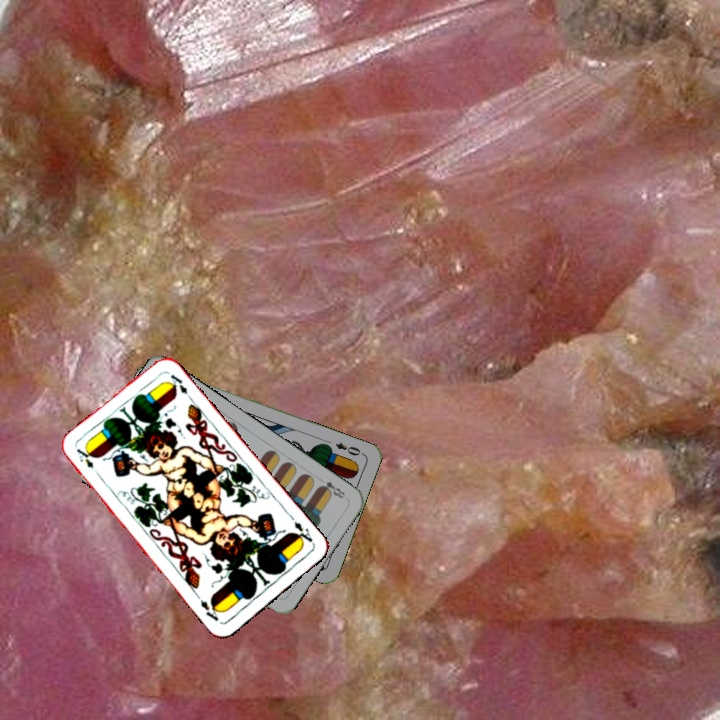E8: (314, 474, 348, 501)
EA: (289, 517, 316, 547), (72, 444, 97, 470)
EO: (331, 438, 366, 458)
